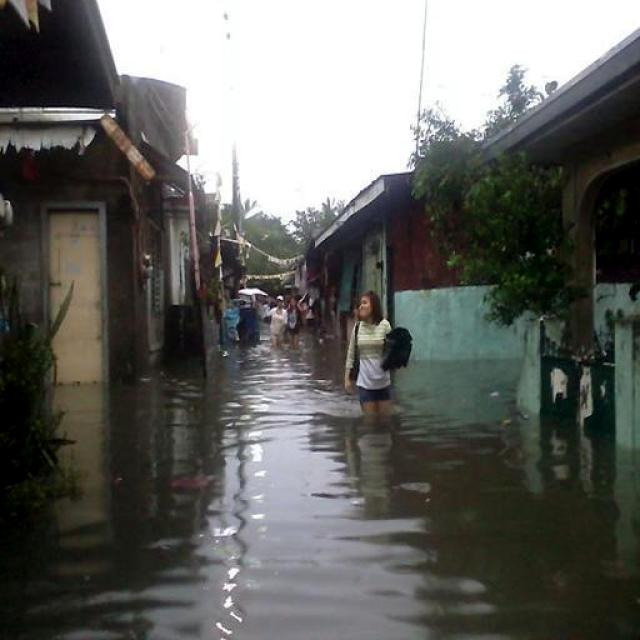civilian: (342, 277, 408, 434), (264, 294, 288, 366), (284, 292, 308, 358)
